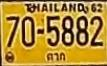0: (21, 15, 34, 46)
2: (90, 15, 102, 45)
5: (46, 15, 59, 46)
7: (6, 16, 18, 46)
8: (61, 15, 73, 45), (76, 15, 88, 45)
TAK: (45, 51, 68, 63)
